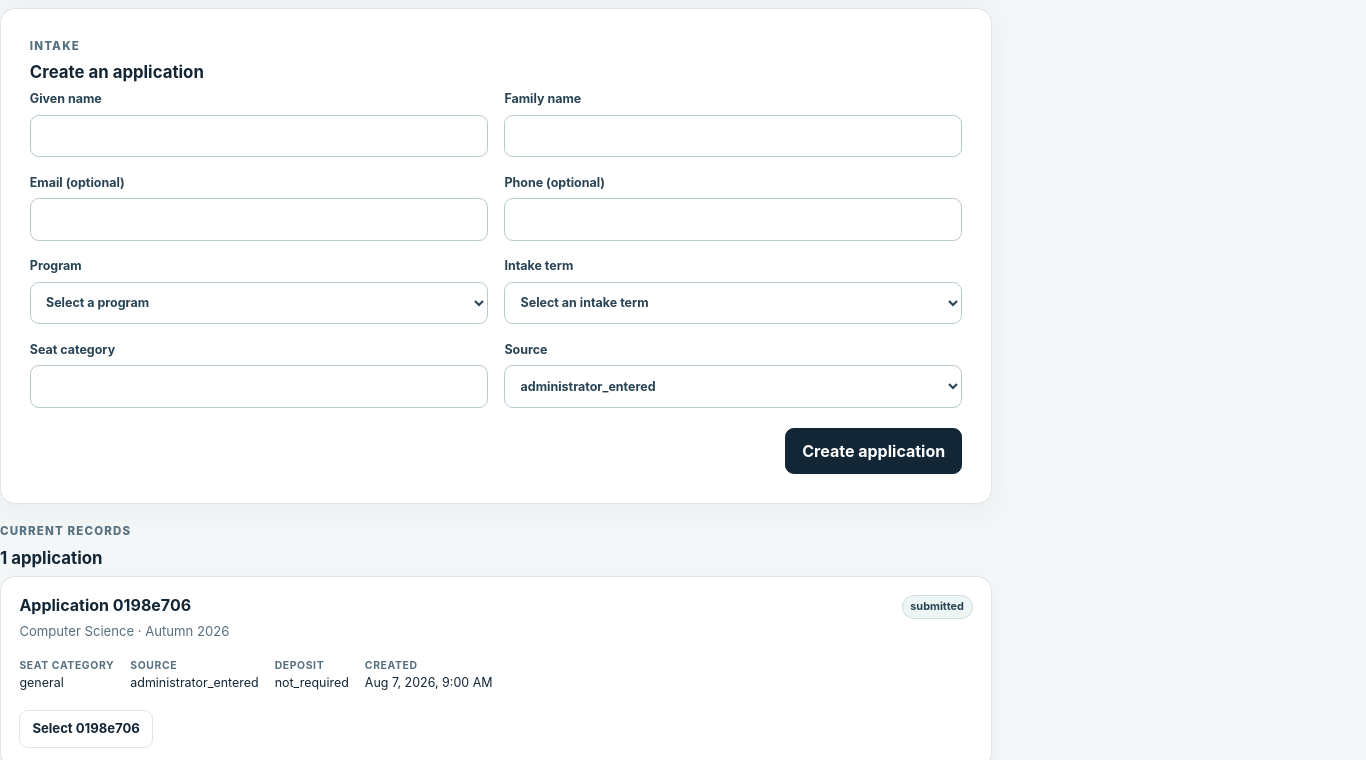
Test: AdmissionsWorkflow › loads history for the selected application and records a review
This screenshot has width=1366, height=760.
(page scrolled)
Click the button "Select 0198e706": [86, 729] box [19,710,153,748]
(page scrolled)
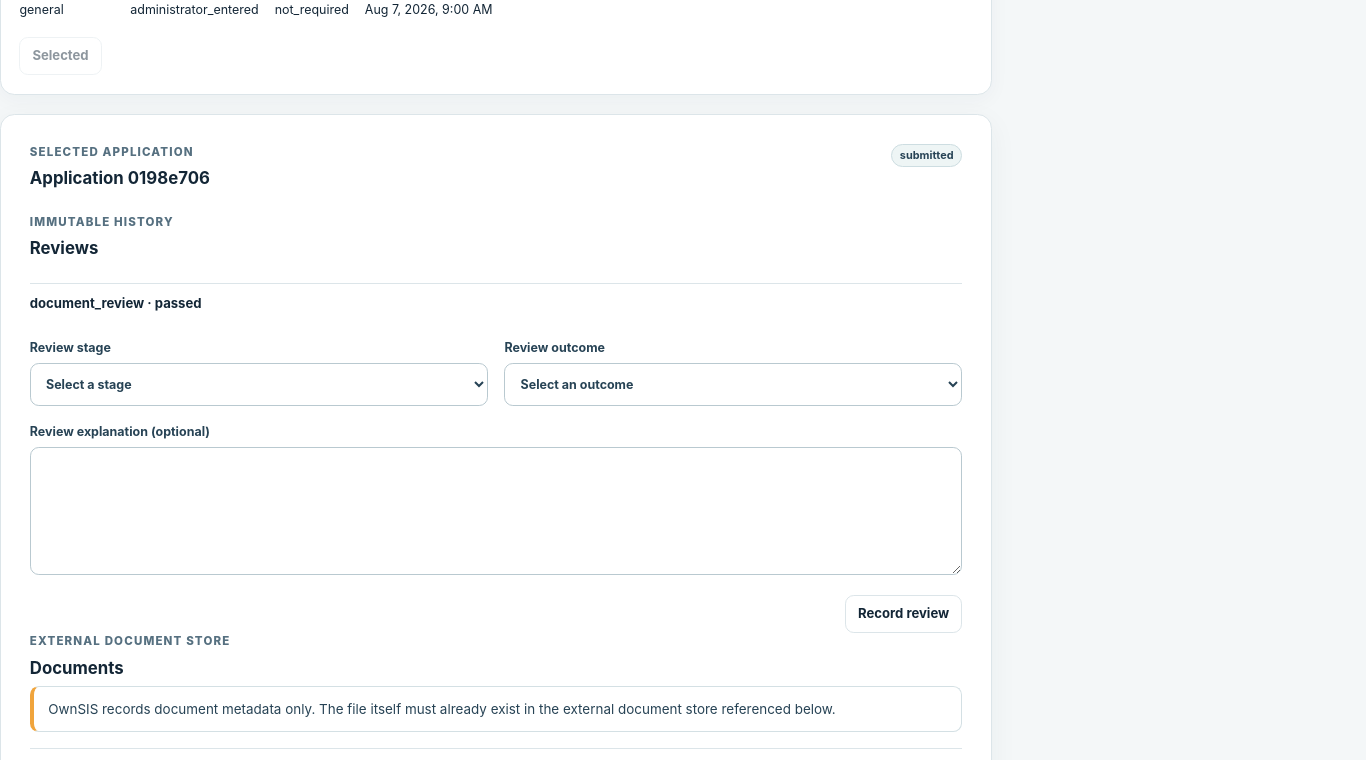
Now the text "document_review · passed" is shown, box [30,294,202,313]
Select "exam" in the dropdown labelled "Review stage": [259, 385] box [30,363,488,406]
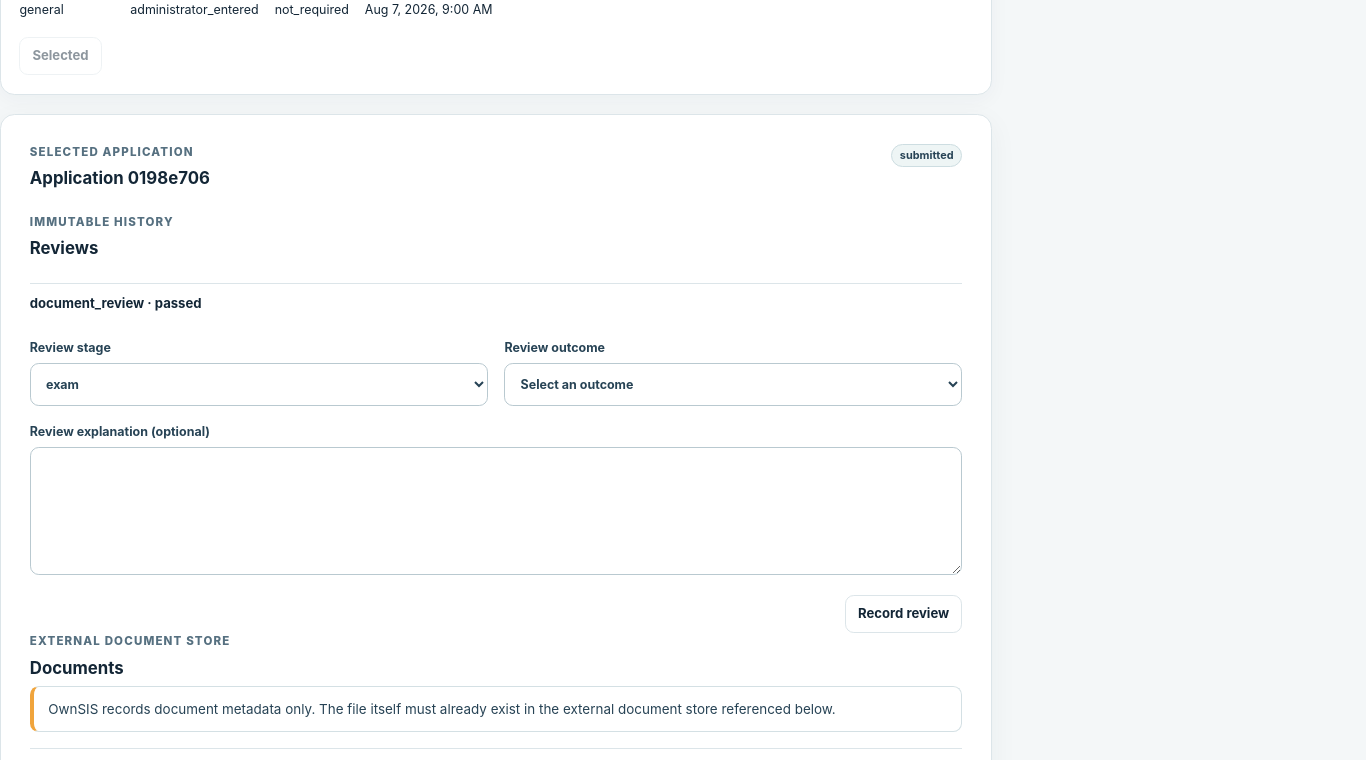
Select "passed" in the dropdown labelled "Review outcome": [733, 385] box [504,363,962,406]
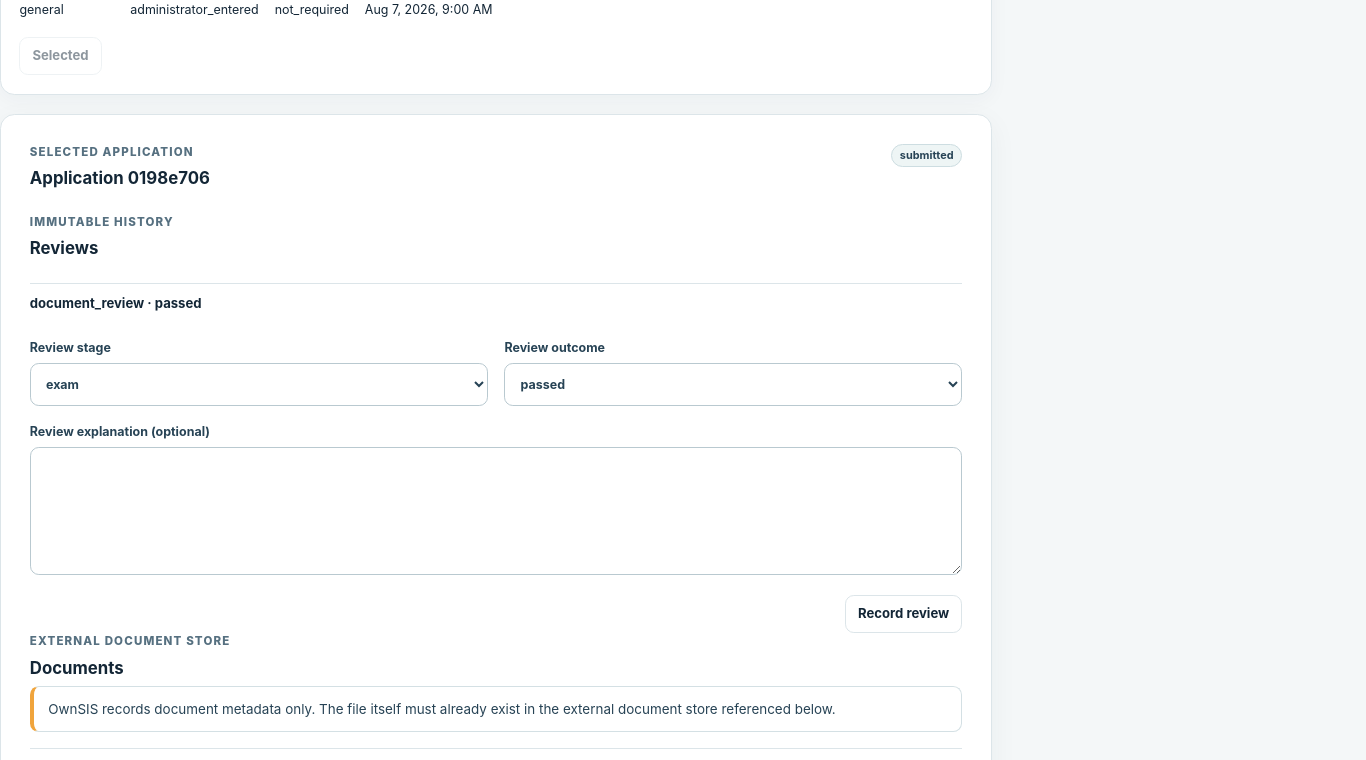
In the text box labelled "Review explanation (optional)": [496, 511] box [30,447,962,575], type "Score 88."
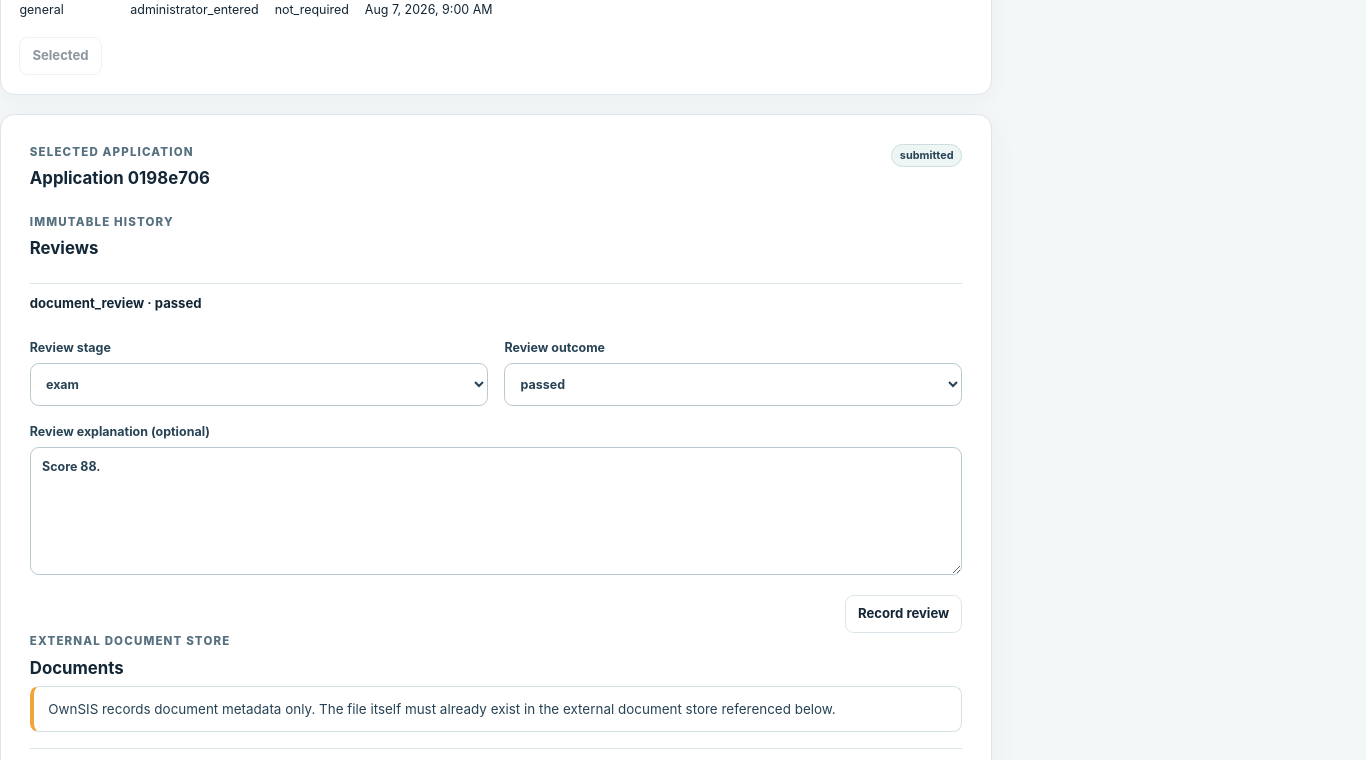
Click the button "Record review": [904, 614] box [845,595,962,633]
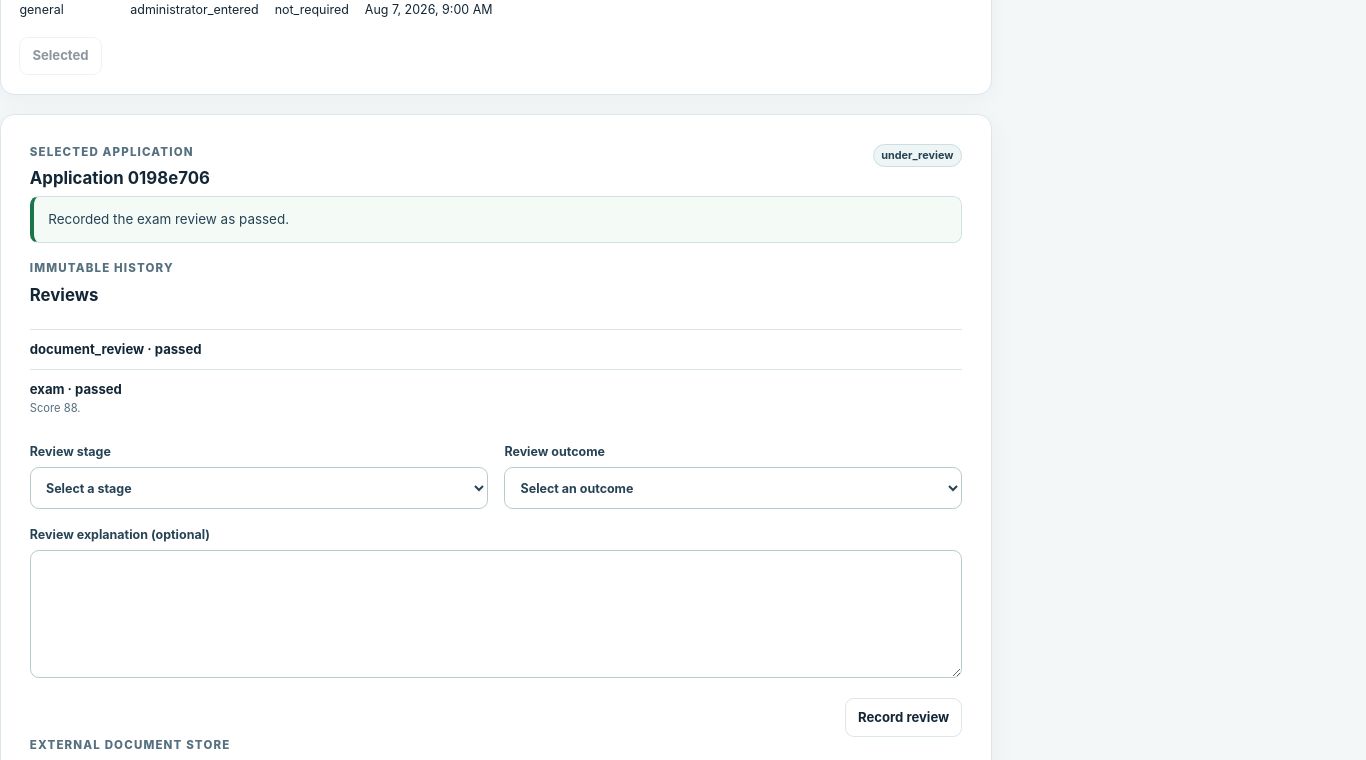
Now the text "Recorded the exam review as passed." is shown, box [30,196,962,243]
Now the text "exam · passed" is shown, box [30,380,122,400]
